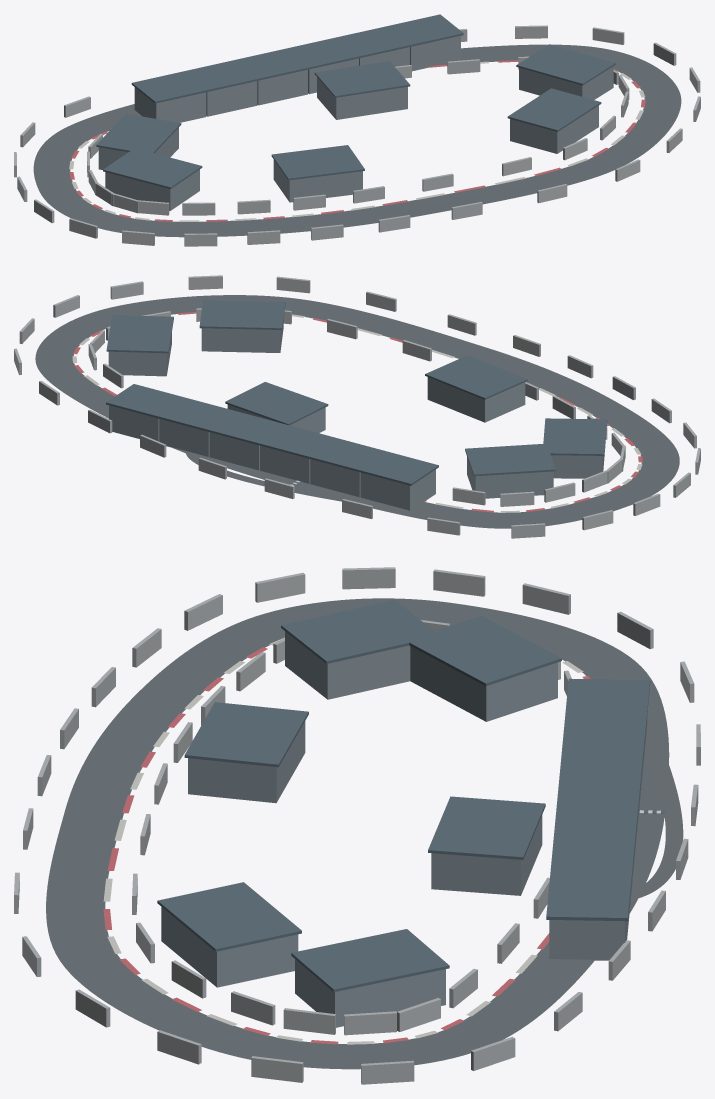
3 renders of one model, top to bottom at view 1: azimuth 30°, elevation 25°; view 2: azimuth 150°, elevation 25°; view 3: azimuth 270°, elevation 25°, orthographic. The views are drawn at different scales.
Parts seen in each view (by area): view 1: asphalt, grandstand_roof_1, grandstand_roof_3, grandstand_roof_0, grandstand_roof_2, grandstand_roof_4, grandstand_roof_5, grandstand_0, grandstand_2, grandstand_4, grandstand_3, grandstand_1 (+32 smaller); view 2: asphalt, grandstand_roof_3, grandstand_roof_0, grandstand_roof_2, grandstand_roof_5, grandstand_roof_1, grandstand_roof_4, grandstand_3, grandstand_2, pit_building_0, grandstand_5, pit_roof_0 (+29 smaller); view 3: asphalt, grandstand_roof_1, grandstand_roof_5, grandstand_roof_2, grandstand_roof_4, grandstand_roof_3, grandstand_roof_0, grandstand_5, grandstand_2, grandstand_1, grandstand_4, grandstand_3 (+25 smaller).
Part boxes in pixels (box(x1,y1,x2,y2)): asphalt: box(33, 44, 681, 237); grandstand_roof_1: box(516, 44, 615, 85); grandstand_roof_3: box(271, 145, 364, 180); grandstand_roof_0: box(314, 61, 410, 97); grandstand_roof_2: box(507, 88, 601, 131); grandstand_roof_4: box(103, 148, 202, 188); grandstand_roof_5: box(96, 114, 181, 154); grandstand_0: box(317, 77, 407, 119); grandstand_2: box(510, 105, 598, 153); grandstand_4: box(105, 169, 199, 210); grandstand_3: box(273, 159, 362, 202); grandstand_1: box(519, 66, 613, 99); asphalt: box(35, 295, 679, 528); grandstand_roof_3: box(425, 355, 527, 399); grandstand_roof_0: box(225, 382, 328, 425); grandstand_roof_2: box(199, 300, 285, 329); grandstand_roof_5: box(465, 444, 555, 476); grandstand_roof_1: box(106, 315, 173, 353); grandstand_roof_4: box(542, 418, 607, 455); grandstand_3: box(427, 377, 525, 422); grandstand_2: box(201, 319, 283, 352); pit_building_0: box(360, 469, 435, 510); grandstand_5: box(467, 456, 553, 498); pit_roof_0: box(357, 451, 438, 485); asphalt: box(46, 598, 669, 1069); grandstand_roof_1: box(291, 929, 449, 992); grandstand_roof_5: box(406, 615, 561, 686); grandstand_roof_2: box(157, 882, 301, 951); grandstand_roof_4: box(281, 599, 439, 663); grandstand_roof_3: box(184, 702, 308, 767); grandstand_roof_0: box(428, 796, 545, 859); grandstand_5: box(410, 646, 557, 721); grandstand_2: box(161, 907, 298, 987); grandstand_1: box(295, 959, 445, 1027); grandstand_4: box(285, 631, 410, 699); grandstand_3: box(188, 721, 305, 803).
Size of the model in its own units: 62.18 by 2.64 by 36.2.
